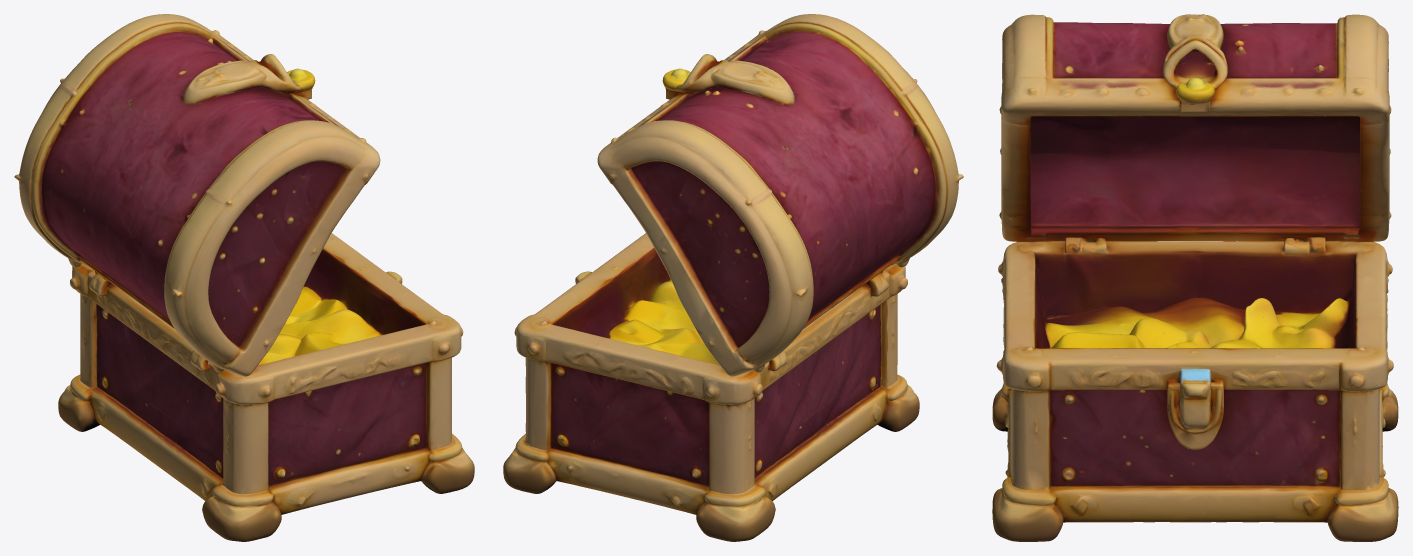
The model's file is prop-chest-royal.glb.
The picture shows the model from 3 angles, left to right: view 1: azimuth 30°, elevation 25°; view 2: azimuth 150°, elevation 25°; view 3: azimuth 270°, elevation 25°; orthographic projection. The views are drawn at different scales.
Parts seen in each view (by area): view 1: tripo_node_39f2b786-b5b6-480a-80e9-e0e1e16d87b9; view 2: tripo_node_39f2b786-b5b6-480a-80e9-e0e1e16d87b9; view 3: tripo_node_39f2b786-b5b6-480a-80e9-e0e1e16d87b9.
Boxes of the visible parts, x1,y1,x2,y2 form: tripo_node_39f2b786-b5b6-480a-80e9-e0e1e16d87b9: (14, 14, 474, 541); tripo_node_39f2b786-b5b6-480a-80e9-e0e1e16d87b9: (503, 14, 963, 541); tripo_node_39f2b786-b5b6-480a-80e9-e0e1e16d87b9: (992, 14, 1398, 541).
Bounding box in the file's own units: 0.9677 × 1.2 × 1.
Materials: 1 (1 with a texture image).
